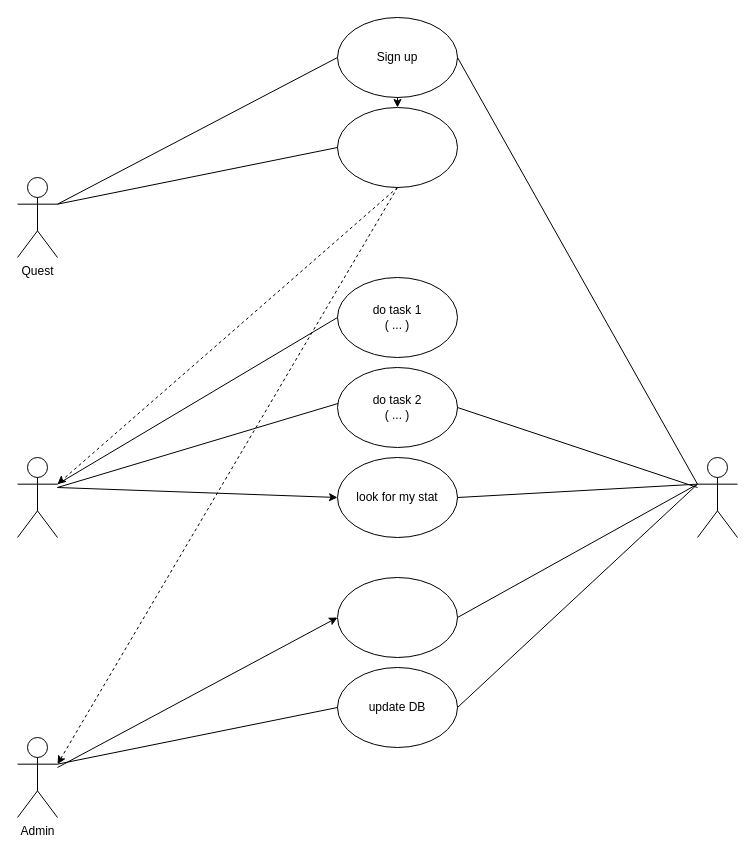
Image size: 755x856. Some labels were removed from this diagram. Here are the shapes that lost their labels. From the top down, the centre of each, then its label:
At point (397, 147): "Sign in".
At point (37, 497): "User".
At point (717, 497): "Server".
At point (397, 617): "look for all stat".
